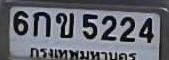2: (119, 16, 134, 41), (100, 15, 115, 40)
4: (138, 17, 152, 42)
5: (82, 13, 97, 39)
6: (13, 10, 27, 35)
A01: (32, 11, 50, 36)
A02: (55, 12, 73, 37)
BKK: (30, 46, 137, 60)
